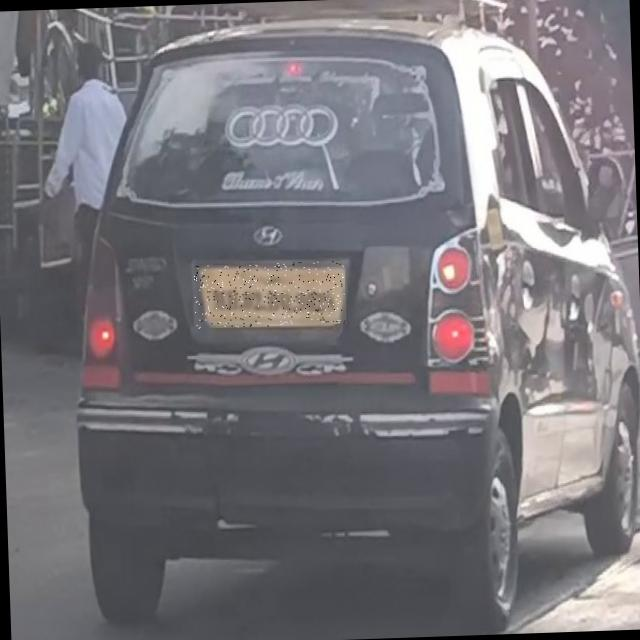Plate: (194, 261, 347, 329)
